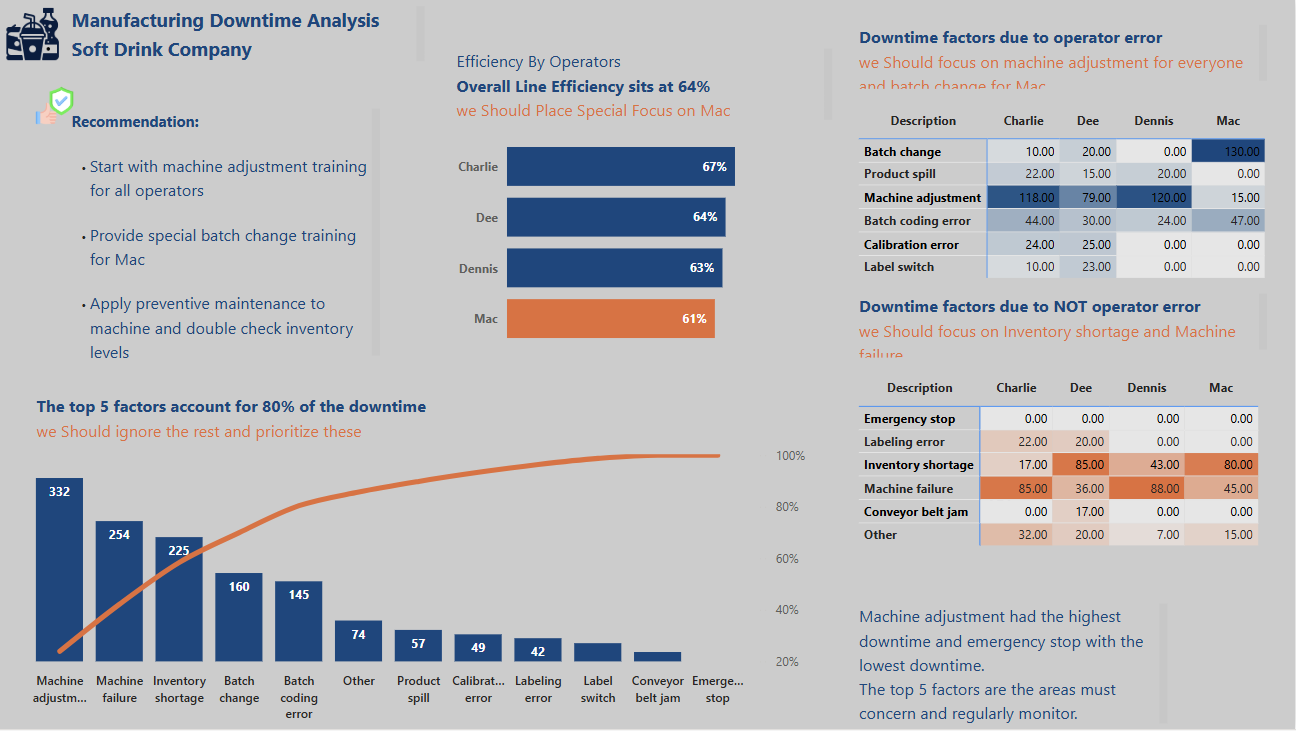

What the dashboard file says about the page in this screenshot:
{"tool":"powerbi","page":{"name":"Home","canvas":[1280,720],"ordinal":0},"visuals":[{"type":"clusteredBarChart","fields":{"Category":["Line productivity.Operator"],"Y":["Measure_Table.Efficiency"]},"box":[447.1,111.7,396.9,248.4],"z":0,"group":"g1"},{"type":"lineClusteredColumnComboChart","fields":{"Category":["Downtime factors.Description"],"Y":["Measure_Table.01-SumDownTime"],"Y2":["Measure_Table.05-Pareto%"]},"box":[0,436.1,801.4,284.6],"z":0},{"type":"textbox","box":[447.1,42.8,381.2,81.2],"z":1000,"group":"g1"},{"type":"pivotTable","title":"Main Downtime Factors","fields":{"Columns":["Line productivity.Operator"],"Rows":["Downtime factors.Description"],"Values":["Measure_Table.SumDownTimeOperatorError"]},"box":[844.5,101.9,412.9,210.1],"z":1000},{"type":"textbox","box":[66.4,1.2,358.3,65.1],"z":2000},{"type":"group","id":"g1","title":"Group 1","box":[447.1,42.8,397,317.6],"z":3000},{"type":"image","box":[0,1.2,66.4,65.1],"z":4000},{"type":"textbox","box":[32.6,383.6,471.7,79.6],"z":5000},{"type":"textbox","box":[844.5,591.2,314.9,129.1],"z":6000},{"type":"image","box":[956.7,470.5,57.9,47.1],"z":7000},{"type":"textbox","box":[844.5,20,412.9,73.3],"z":8000},{"type":"textbox","box":[66.4,102.5,314.9,258.2],"z":9000},{"type":"image","box":[31.4,77.2,48.3,53.1],"z":10000},{"type":"pivotTable","title":"Main Downtime Factors","fields":{"Columns":["Line productivity.Operator"],"Rows":["Downtime factors.Description"],"Values":["Measure_Table.SumDownTimeNotOperatorError"]},"box":[844.5,367,412.9,200.3],"z":10001},{"type":"textbox","box":[844.5,285.1,412.9,73.3],"z":10002}]}

Visuals, with their boxes in screenshot pixels (x1, y1, x2, y2), scaled from the page's 1280x720 canvas onto the 1296x731 screenshot:
clusteredBarChart - Line productivity.Operator x Measure_Table.Efficiency: rect(453, 113, 855, 366)
lineClusteredColumnComboChart - Downtime factors.Description x Measure_Table.01-SumDownTime: rect(0, 443, 811, 730)
textbox: rect(453, 43, 839, 126)
"Main Downtime Factors" pivotTable: rect(855, 103, 1273, 317)
textbox: rect(67, 1, 430, 67)
"Group 1" group: rect(453, 43, 855, 366)
image: rect(0, 1, 67, 67)
textbox: rect(33, 389, 511, 470)
textbox: rect(855, 600, 1174, 730)
image: rect(969, 478, 1027, 526)
textbox: rect(855, 20, 1273, 95)
textbox: rect(67, 104, 386, 366)
image: rect(32, 78, 81, 132)
"Main Downtime Factors" pivotTable: rect(855, 373, 1273, 576)
textbox: rect(855, 289, 1273, 364)
